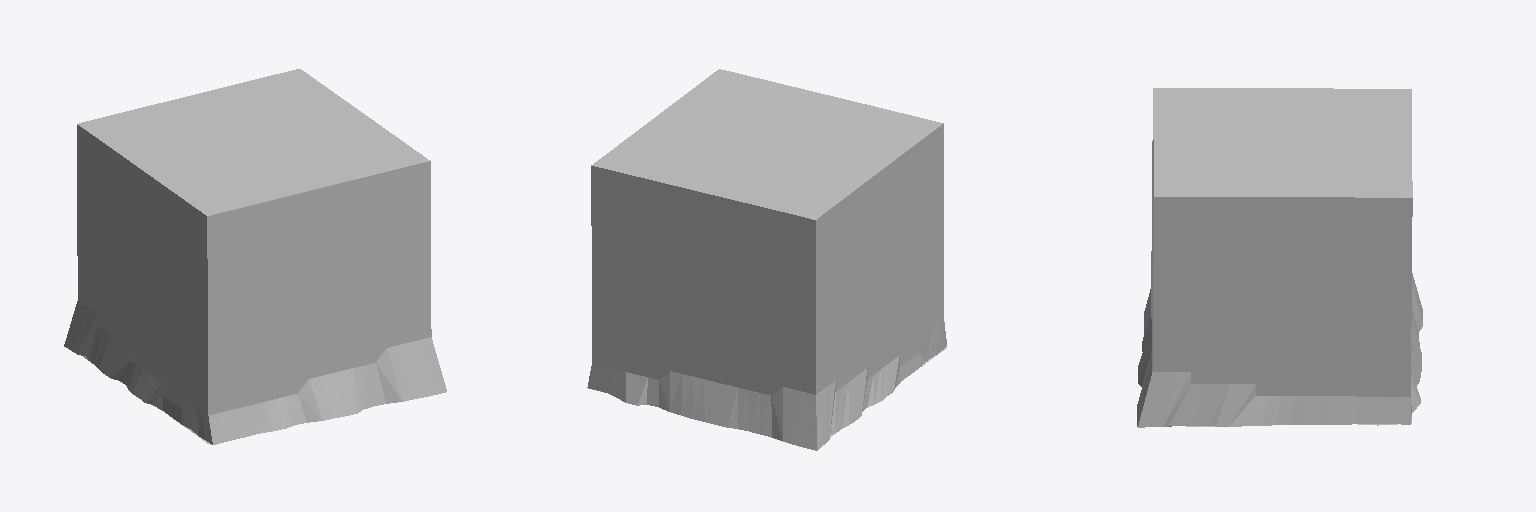
Rendered from mod0084.obj.
The picture shows the model from 3 angles: view 1: azimuth 30°, elevation 25°; view 2: azimuth 150°, elevation 25°; view 3: azimuth 270°, elevation 25°; orthographic projection.
Parts seen in each view (by area): view 1: Box001; view 2: Box001; view 3: Box001.
Part boxes in pixels (bbox=[...]): Box001: bbox=[64, 69, 446, 444]; Box001: bbox=[587, 69, 946, 450]; Box001: bbox=[1137, 88, 1422, 427].
Size of the model in its own units: 0.5799 by 0.5242 by 0.5979.